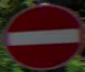No entry: (7, 2, 73, 61)
